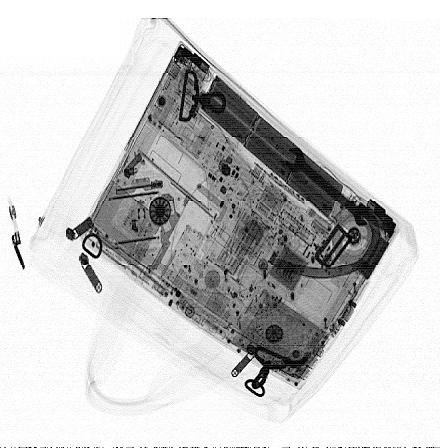Wrench: (281, 143, 372, 230)
